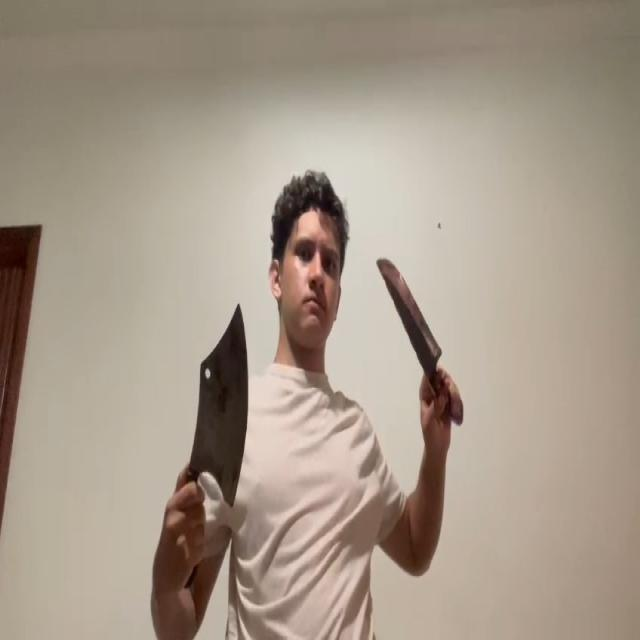knife: (199, 298, 250, 506), (376, 257, 442, 358)
